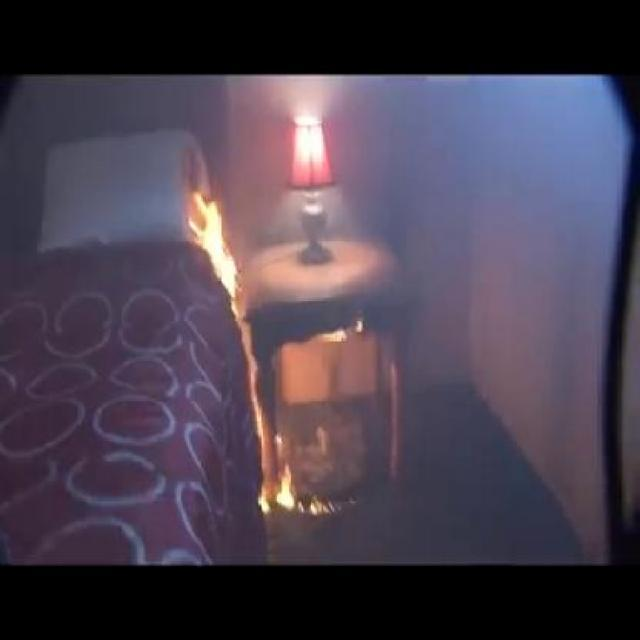fire: (186, 196, 331, 507)
